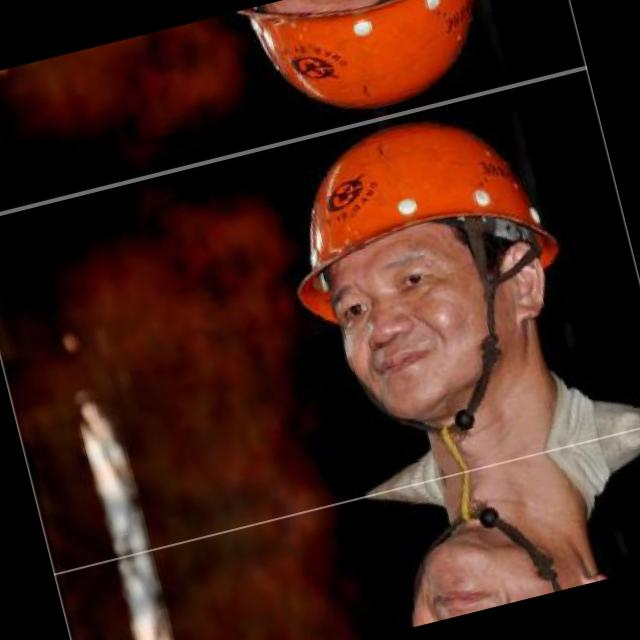helmet: (244, 82, 596, 473), (340, 464, 638, 636), (210, 0, 515, 151)
